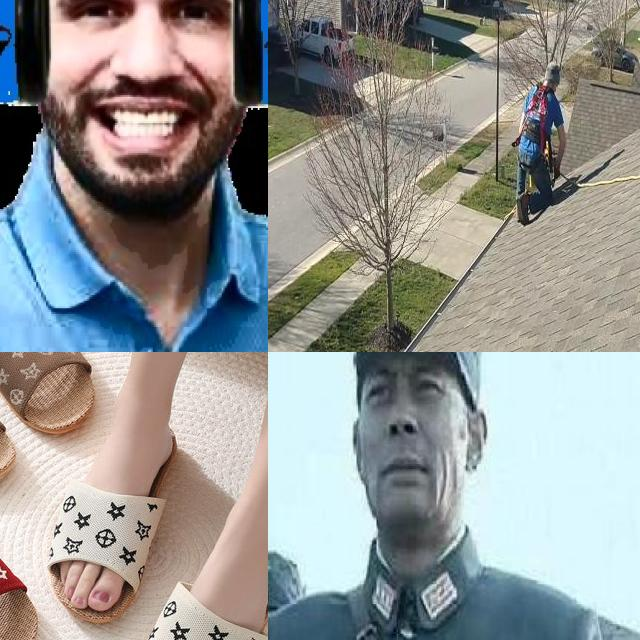Ear-protection: (0, 0, 268, 115)
Harness: (522, 84, 550, 150)
Sandals: (0, 387, 268, 640)
face_nomask: (349, 360, 453, 514)
person: (268, 352, 640, 640)
